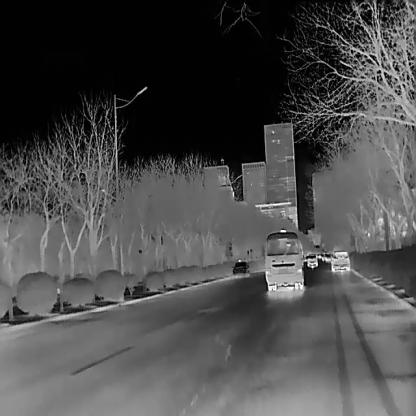bus: (265, 227, 302, 291)
car: (330, 250, 350, 272), (231, 260, 249, 276), (306, 252, 317, 267)
